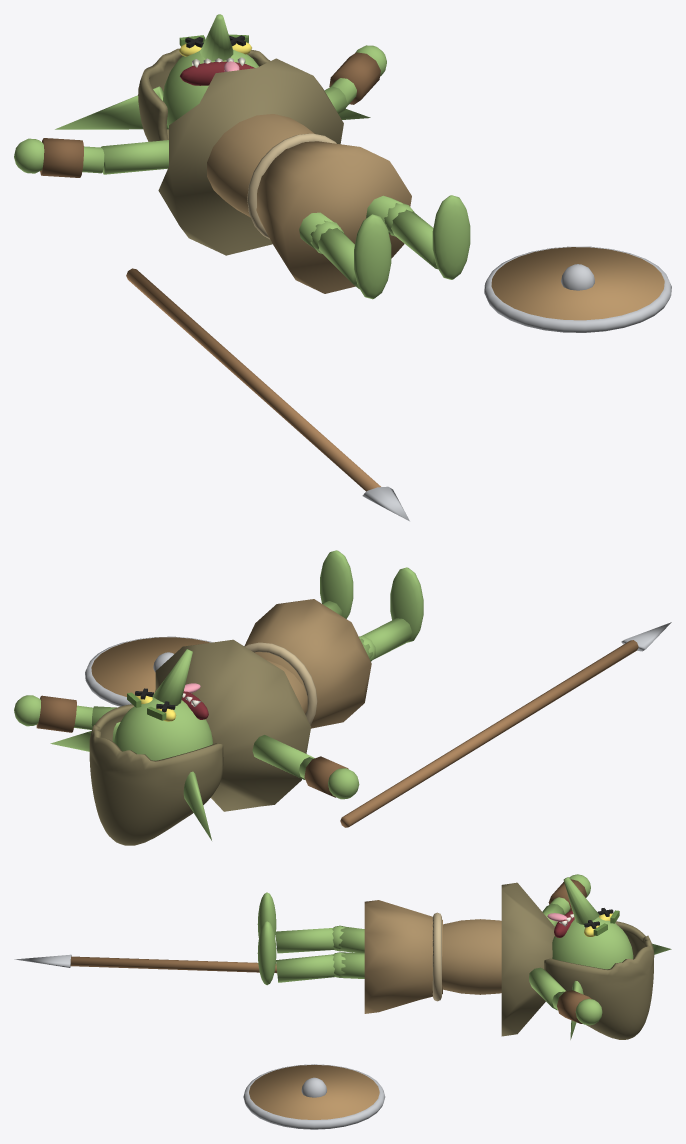
Rendered from goblin_corpse.glb.
The picture shows the model from 3 angles, top to bottom: view 1: azimuth 30°, elevation 25°; view 2: azimuth 150°, elevation 25°; view 3: azimuth 270°, elevation 25°; orthographic projection. The views are drawn at different scales.
Parts seen in each view (by area): view 1: Mantle.001, Skirt.001, DroppedShield, Torso.001, DroppedSpear, DroppedShieldRim, Foot_L.002, Foot_R.002, Hood.001, Head.002, UpperArm_R.001, Ear_R.001 (+8 smaller); view 2: Mantle.001, Hood.001, Skirt.001, DroppedSpear, Head.002, DroppedShield, Foot_R.002, Foot_L.002, UpperArm_R.001, Bracer_L.001, Belt.002, Shin_R.001 (+9 smaller); view 3: Skirt.001, Hood.001, Mantle.001, DroppedShield, Torso.001, Head.002, DroppedSpear, DroppedShieldRim, Shin_L.001, Shin_R.001, Foot_L.002, Belt.002 (+9 smaller).
Part boxes in pixels (x1,y1,x2,y2): Mantle.001: (158, 58, 343, 255); Skirt.001: (256, 141, 411, 293); DroppedShield: (491, 247, 664, 320); Torso.001: (207, 114, 314, 217); DroppedSpear: (126, 268, 380, 491); DroppedShieldRim: (484, 246, 671, 332); Foot_L.002: (432, 195, 470, 279); Foot_R.002: (354, 214, 391, 299); Hood.001: (138, 48, 270, 141); Head.002: (163, 49, 258, 128); UpperArm_R.001: (101, 140, 168, 174); Ear_R.001: (55, 86, 168, 129); Mantle.001: (154, 639, 310, 811); Hood.001: (89, 704, 223, 845); Skirt.001: (244, 599, 371, 728); DroppedSpear: (340, 640, 638, 827); Head.002: (114, 697, 212, 760); DroppedShield: (91, 637, 210, 696); Foot_R.002: (390, 567, 423, 642); Foot_L.002: (320, 550, 353, 618); UpperArm_R.001: (252, 735, 314, 779); Bracer_L.001: (36, 695, 76, 732); Belt.002: (245, 642, 317, 724); Shin_R.001: (361, 618, 412, 659); Skirt.001: (364, 900, 442, 1013); Hood.001: (544, 921, 654, 1039); Mantle.001: (501, 882, 554, 1036); DroppedShield: (249, 1064, 379, 1119); Torso.001: (442, 919, 501, 994); Head.002: (552, 917, 633, 969); DroppedSpear: (70, 956, 277, 973); DroppedShieldRim: (243, 1064, 385, 1129); Shin_L.001: (276, 954, 335, 982); Shin_R.001: (276, 928, 334, 953); Foot_L.002: (257, 921, 276, 985); Belt.002: (432, 912, 441, 1001).
Size of the model in its own units: 1.42 by 0.5966 by 2.3.
